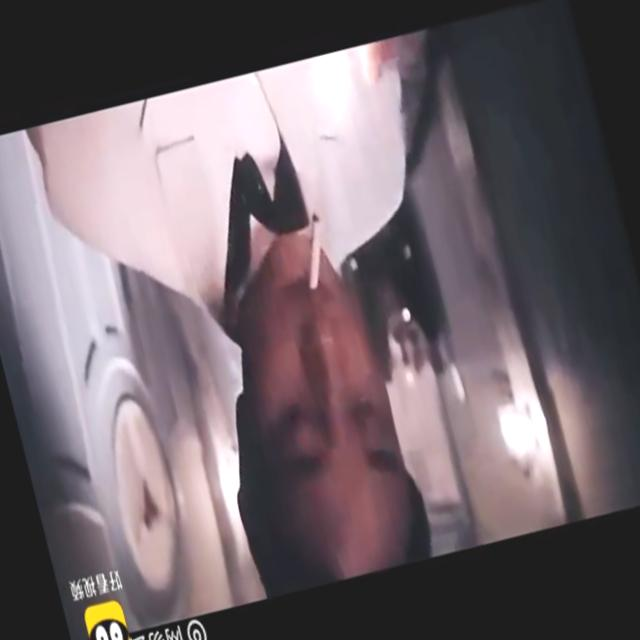smoke: (288, 209, 338, 293)
